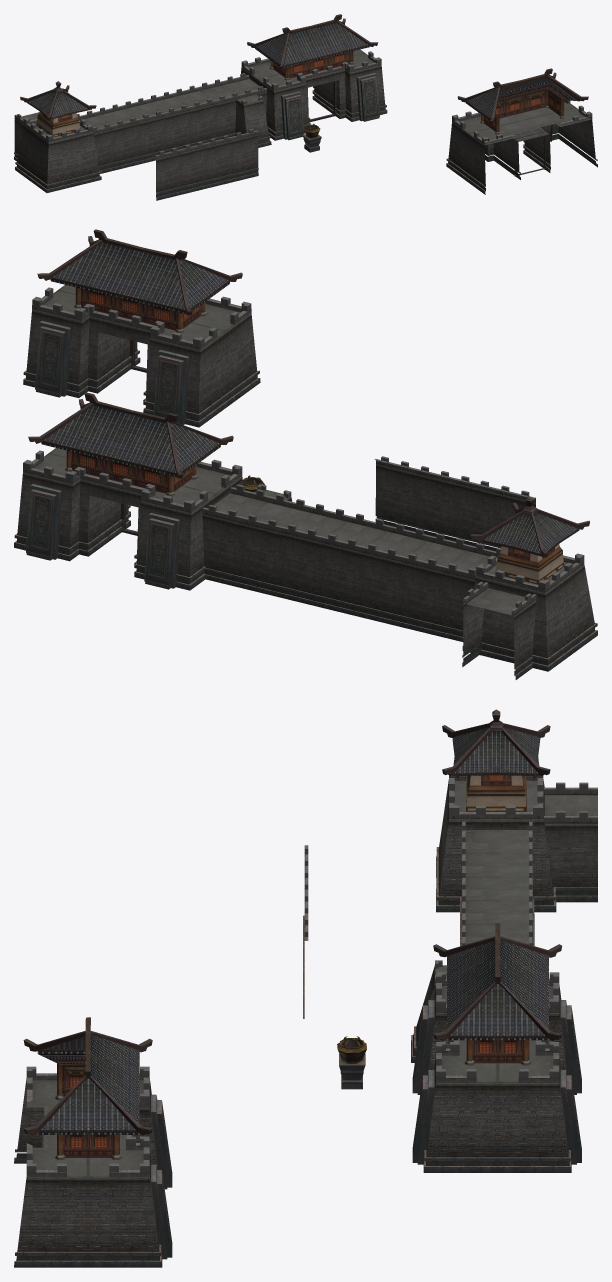
The model's file is s7_cityelement_new_01.FBX.
3 views of the same model, one above another, from view 1: azimuth 30°, elevation 25°; view 2: azimuth 150°, elevation 25°; view 3: azimuth 270°, elevation 25° (orthographic). The views are drawn at different scales.
Visible parts, largest first — view 1: s7_city_new_men02, s7_city_new_men01, s7_city_new_zhuanjiao01, s7_city_new_chengqiang01, s7_city_new_chengqiang002, s7_cityroof, s7_city_new_chengqiang03, s7_cityroof001, Objcvcvcvect02, s7_city_new_huopen01; view 2: s7_city_new_men02, s7_city_new_men01, s7_city_new_chengqiang01, s7_city_new_zhuanjiao01, s7_cityroof, s7_cityroof001, s7_city_new_chengqiang002, s7_city_new_chengqiang03, Objcvcvcvect02; view 3: s7_city_new_men01, s7_city_new_men02, s7_city_new_zhuanjiao01, s7_cityroof, s7_cityroof001, s7_city_new_chengqiang01, Objcvcvcvect02, s7_city_new_huopen01.
Part boxes in pixels (x1,y1,x2,y2): s7_city_new_men02: (446,68,597,194); s7_city_new_men01: (241,14,387,140); s7_city_new_zhuanjiao01: (14,81,114,192); s7_city_new_chengqiang01: (96,85,217,170); s7_city_new_chengqiang002: (155,129,258,200); s7_cityroof: (255,22,369,80); s7_city_new_chengqiang03: (198,73,271,147); s7_cityroof001: (465,78,579,134); Objcvcvcvect02: (26,91,89,137); s7_city_new_huopen01: (302,123,321,152); s7_city_new_men02: (23,229,260,427); s7_city_new_men01: (14,392,243,590); s7_city_new_chengqiang01: (280,504,470,636); s7_city_new_zhuanjiao01: (440,496,597,679); s7_cityroof: (41,405,220,496); s7_cityroof001: (50,242,229,332); s7_city_new_chengqiang002: (374,456,535,551); s7_city_new_chengqiang03: (202,484,310,597); Objcvcvcvect02: (480,512,579,584); s7_city_new_men01: (412,923,581,1172); s7_city_new_men02: (14,1017,172,1267); s7_city_new_zhuanjiao01: (436,709,597,916); s7_cityroof: (447,940,548,1065); s7_cityroof001: (37,1034,139,1159); s7_city_new_chengqiang01: (460,845,534,946); Objcvcvcvect02: (452,727,540,811); s7_city_new_huopen01: (337,1036,366,1089).
Size of the model in its own units: 119 by 24.38 by 72.6.
